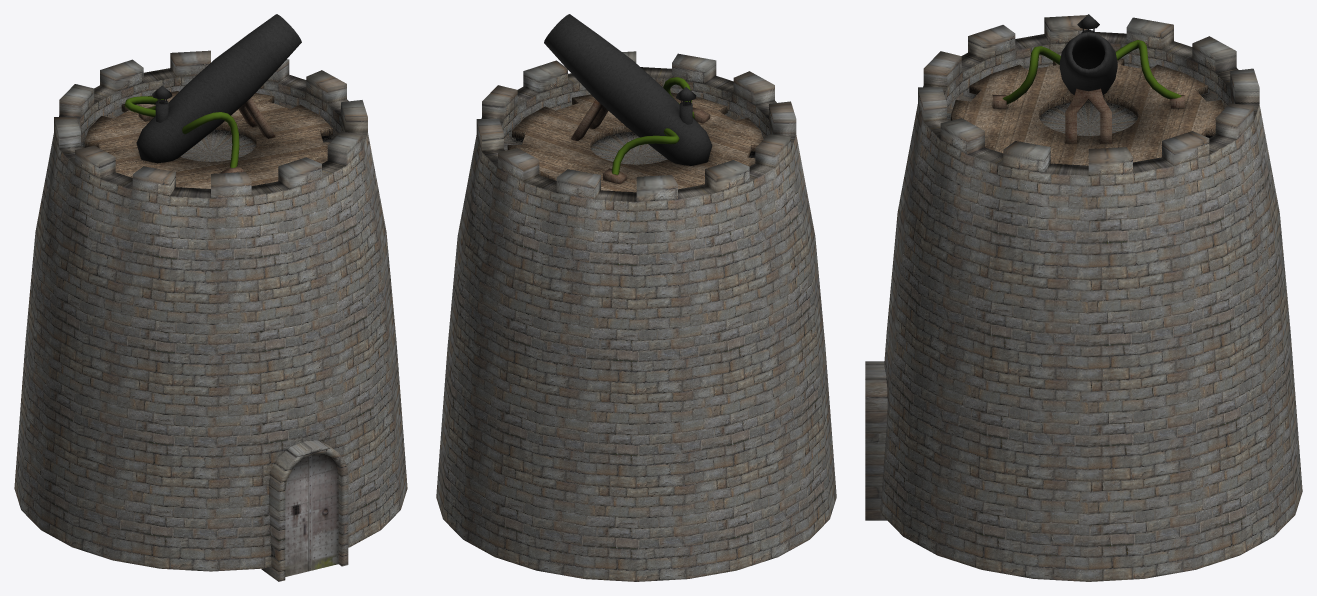
File: torreta cañon222.fbx
3 views of the same model, side by side, from view 1: azimuth 30°, elevation 25°; view 2: azimuth 150°, elevation 25°; view 3: azimuth 270°, elevation 25° (orthographic). The views are drawn at different scales.
Parts seen in each view (by area): view 1: BaseTorre, Cylinder.001, Base, Cylinder; view 2: BaseTorre, Base, Cylinder.001; view 3: BaseTorre, Base, Cylinder.001, Cylinder.
Boxes of the visible parts, x1,y1,x2,y2 form: BaseTorre: (14,50,407,571); Cylinder.001: (124,14,301,167); Base: (84,91,332,188); Cylinder: (261,440,348,581); BaseTorre: (436,51,836,581); Base: (507,92,763,192); Cylinder.001: (544,14,712,174); BaseTorre: (880,15,1302,581); Base: (951,58,1224,165); Cylinder.001: (1002,14,1181,104); Cylinder: (865,361,887,520).
Bounding box in the file's own units: 400 × 523 × 409.
